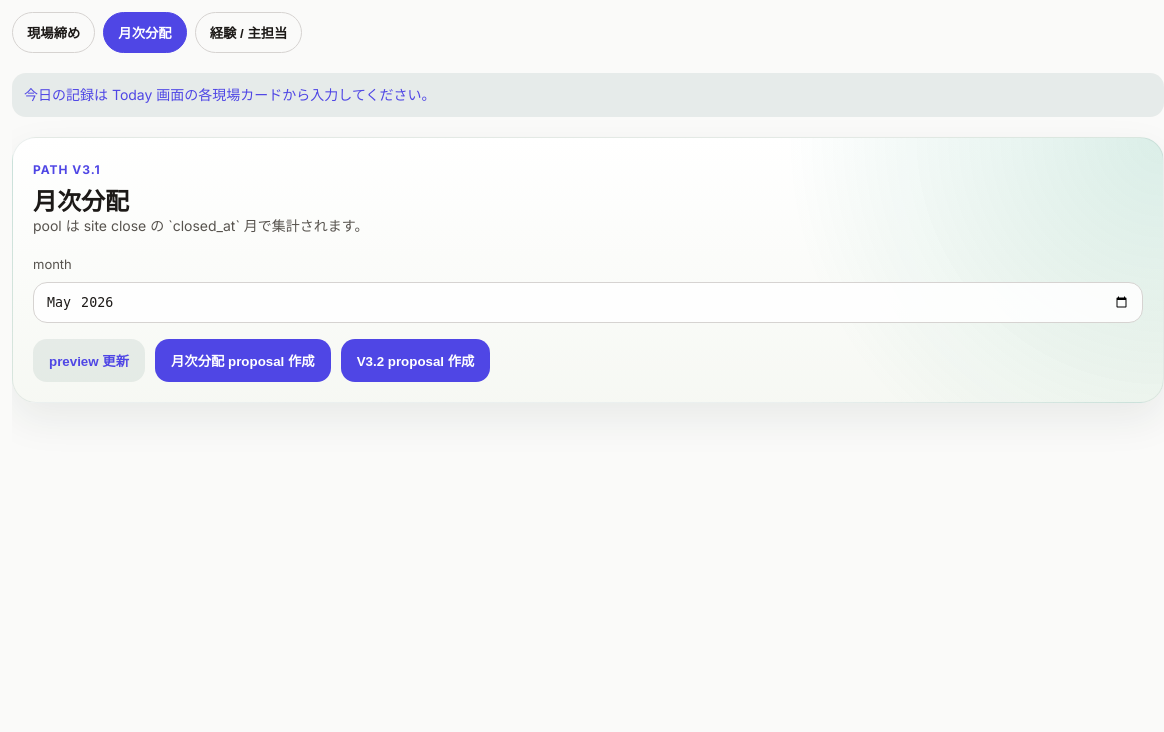
Test: PathV31Tab › creates a V3.2 monthly distribution proposal from the monthly UI
Expected: the heading "月次分配" is shown, [33,187,129,216]
Replace the text in the field labelled "month" with "2026-06": (588, 303) [33,282,1143,323]
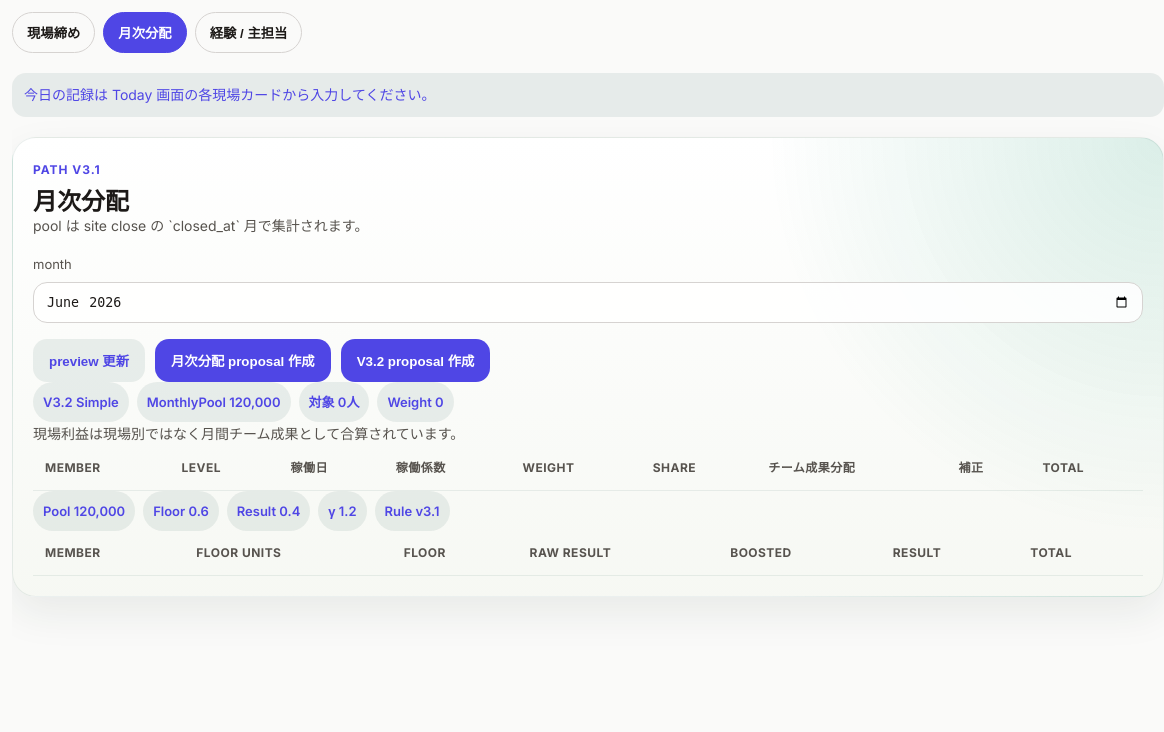
Click the button "V3.2 proposal 作成": (416, 361) [341,339,490,382]
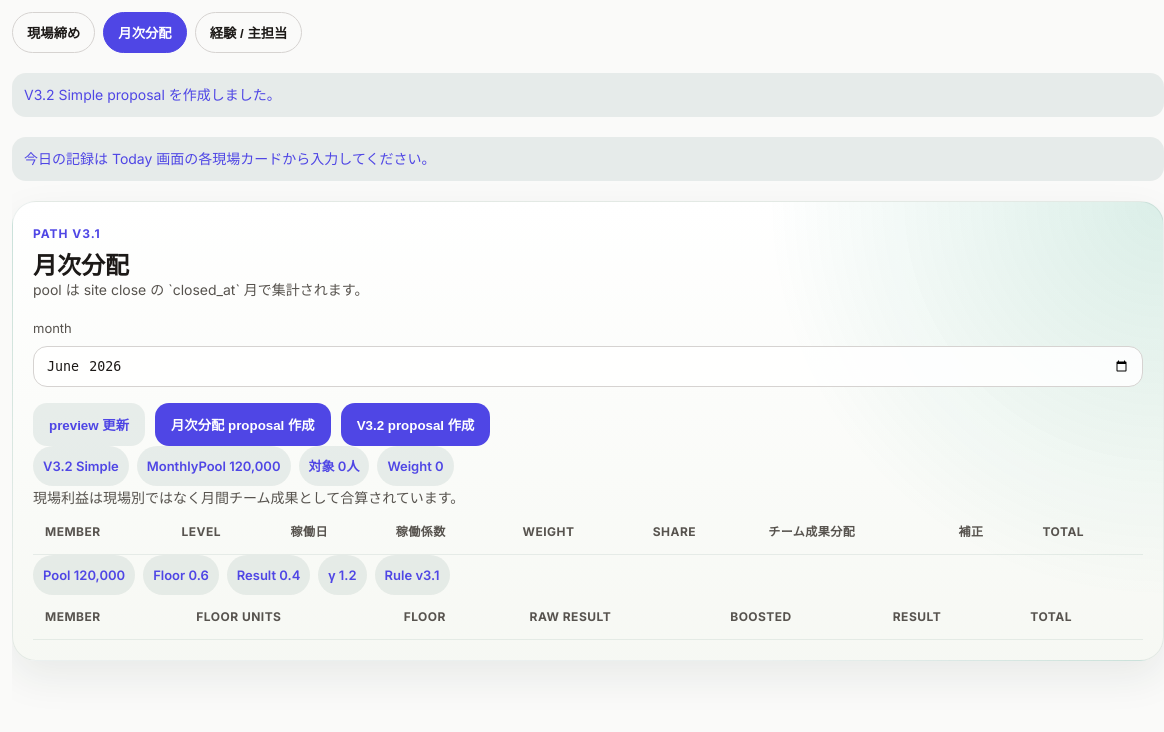
Now the text "V3.2 Simple proposal を作成しました。" is shown, box [12,73,1163,117]
